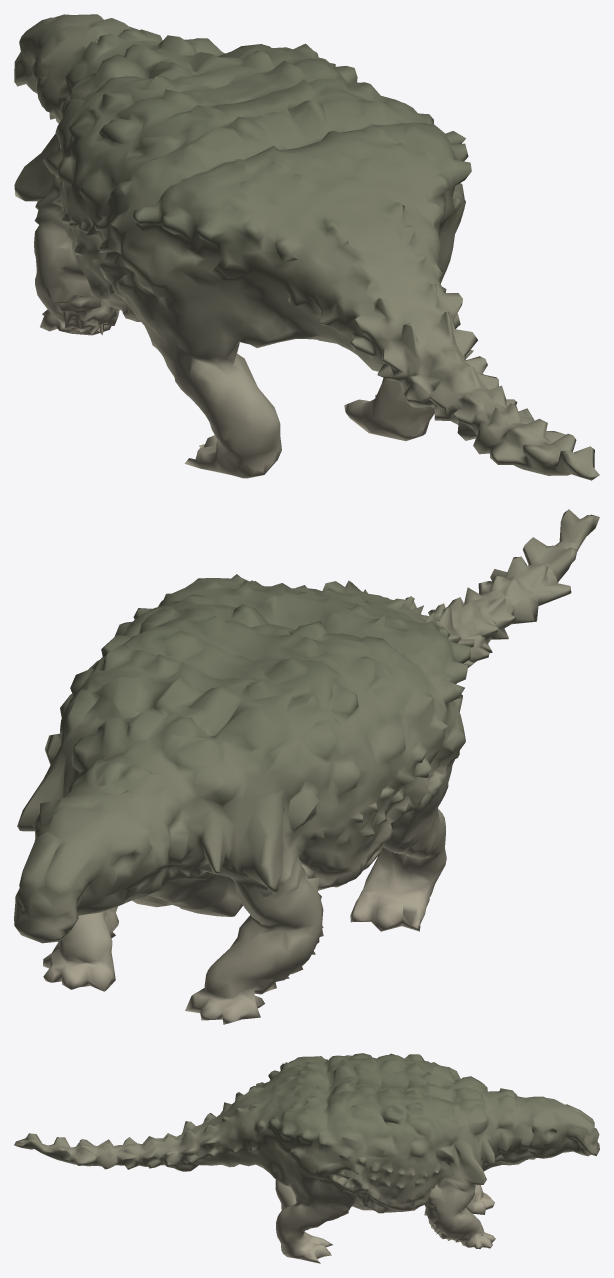
File: denversaurus.glb
3 renders of one model, top to bottom at view 1: azimuth 30°, elevation 25°; view 2: azimuth 150°, elevation 25°; view 3: azimuth 270°, elevation 25°, orthographic. The views are drawn at different scales.
Bounding box in the file's own units: 4.14 × 3.69 × 12.
